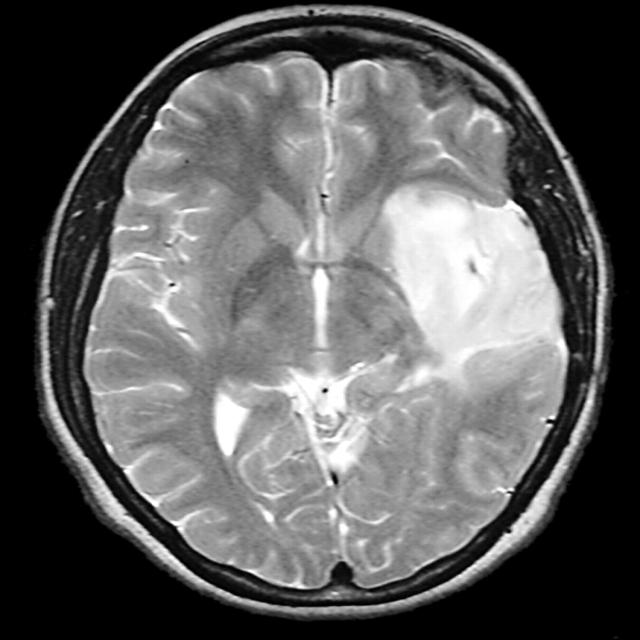Tumor-Cell: (358, 185, 540, 356)
